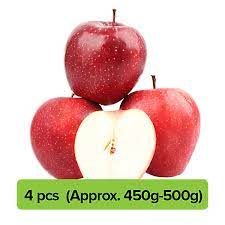apple: (72, 110, 155, 180)
